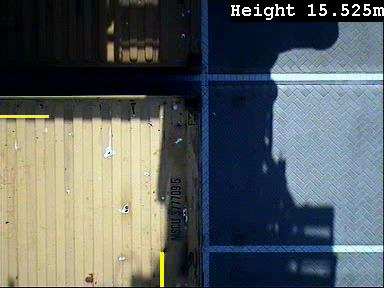groundmarker_2: (152, 60, 231, 90)
